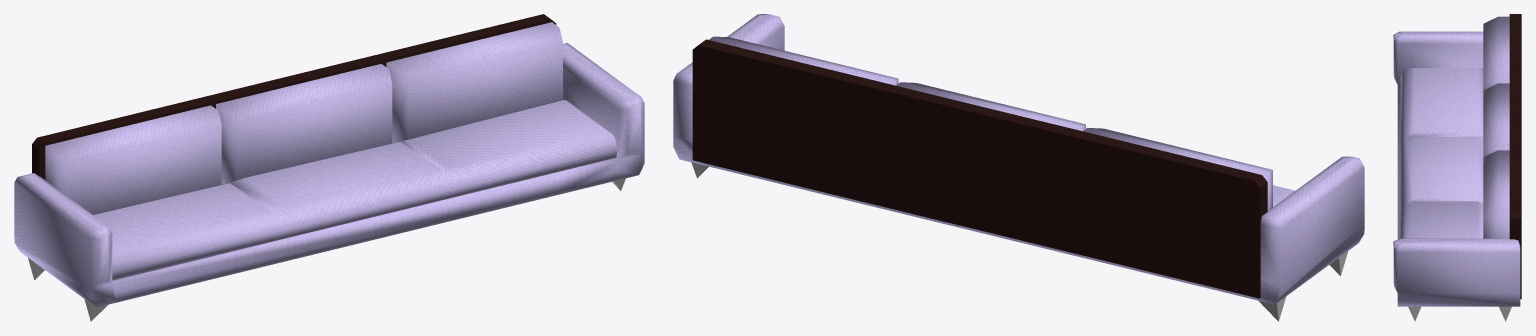
File: Long_Sofa_C.FBX
3 views of the same model, side by side, from view 1: azimuth 30°, elevation 25°; view 2: azimuth 150°, elevation 25°; view 3: azimuth 270°, elevation 25° (orthographic). The views are drawn at different scales.
Visible parts, largest first — view 1: Long_Sofa; view 2: Long_Sofa; view 3: Long_Sofa.
Boxes of the visible parts, x1,y1,x2,y2 form: Long_Sofa: [14, 14, 644, 321]; Long_Sofa: [673, 14, 1364, 321]; Long_Sofa: [1393, 14, 1521, 321].
Size of the model in its own units: 685 by 157 by 171.
